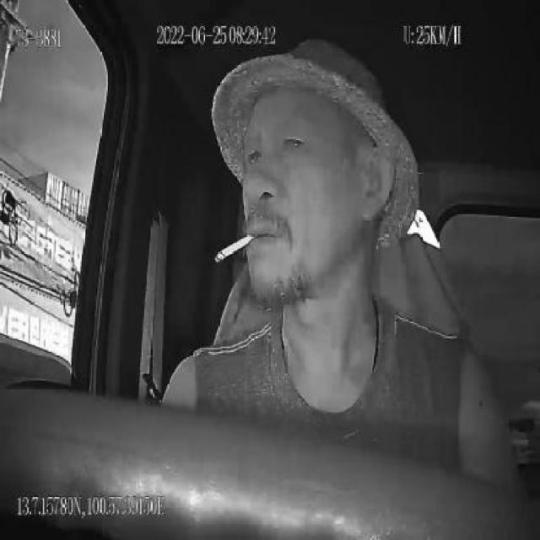smoking: (214, 233, 256, 261)
